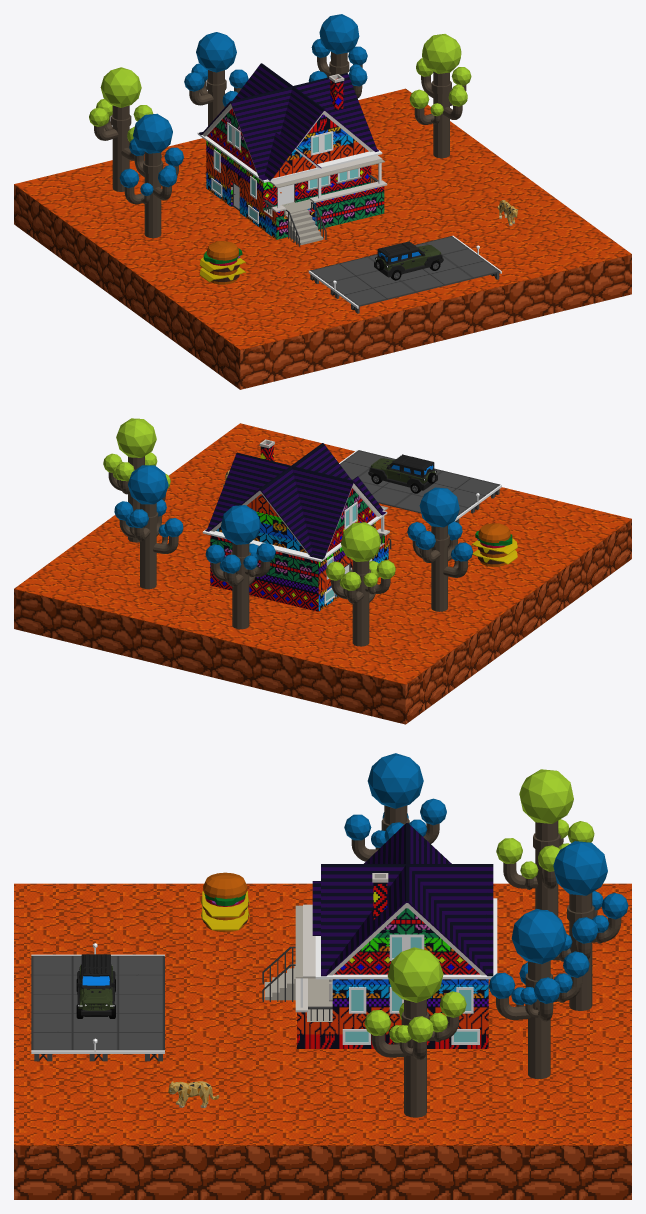
3 views of the same model, one above another, from view 1: azimuth 30°, elevation 25°; view 2: azimuth 150°, elevation 25°; view 3: azimuth 270°, elevation 25° (orthographic). The views are drawn at different scales.
Parts seen in each view (by area): view 1: Cube.001, Cube.966, VEHICLES_JEEP, OBJRANDOM_HAMBURGER; view 2: Cube.001, Cube.966, VEHICLES_JEEP, OBJRANDOM_HAMBURGER; view 3: Cube.001, Cube.966, OBJRANDOM_HAMBURGER, VEHICLES_JEEP, ANIMAL_JAGUAR.
Boxes of the visible parts, box(x1,y1,x2,y2) form: Cube.001: box(14, 14, 631, 389); Cube.966: box(197, 63, 387, 246); VEHICLES_JEEP: box(374, 241, 443, 280); OBJRANDOM_HAMBURGER: box(199, 241, 245, 284); Cube.001: box(14, 418, 631, 724); Cube.966: box(202, 439, 391, 611); VEHICLES_JEEP: box(368, 454, 437, 493); OBJRANDOM_HAMBURGER: box(471, 523, 517, 566); Cube.001: box(14, 753, 631, 1199); Cube.966: box(262, 823, 497, 1048); OBJRANDOM_HAMBURGER: box(201, 872, 249, 932); VEHICLES_JEEP: box(76, 954, 115, 1018); ANIMAL_JAGUAR: box(168, 1081, 219, 1108).
Size of the model in its own units: 4000 by 1664 by 4000.
46 materials, 8 textured.
